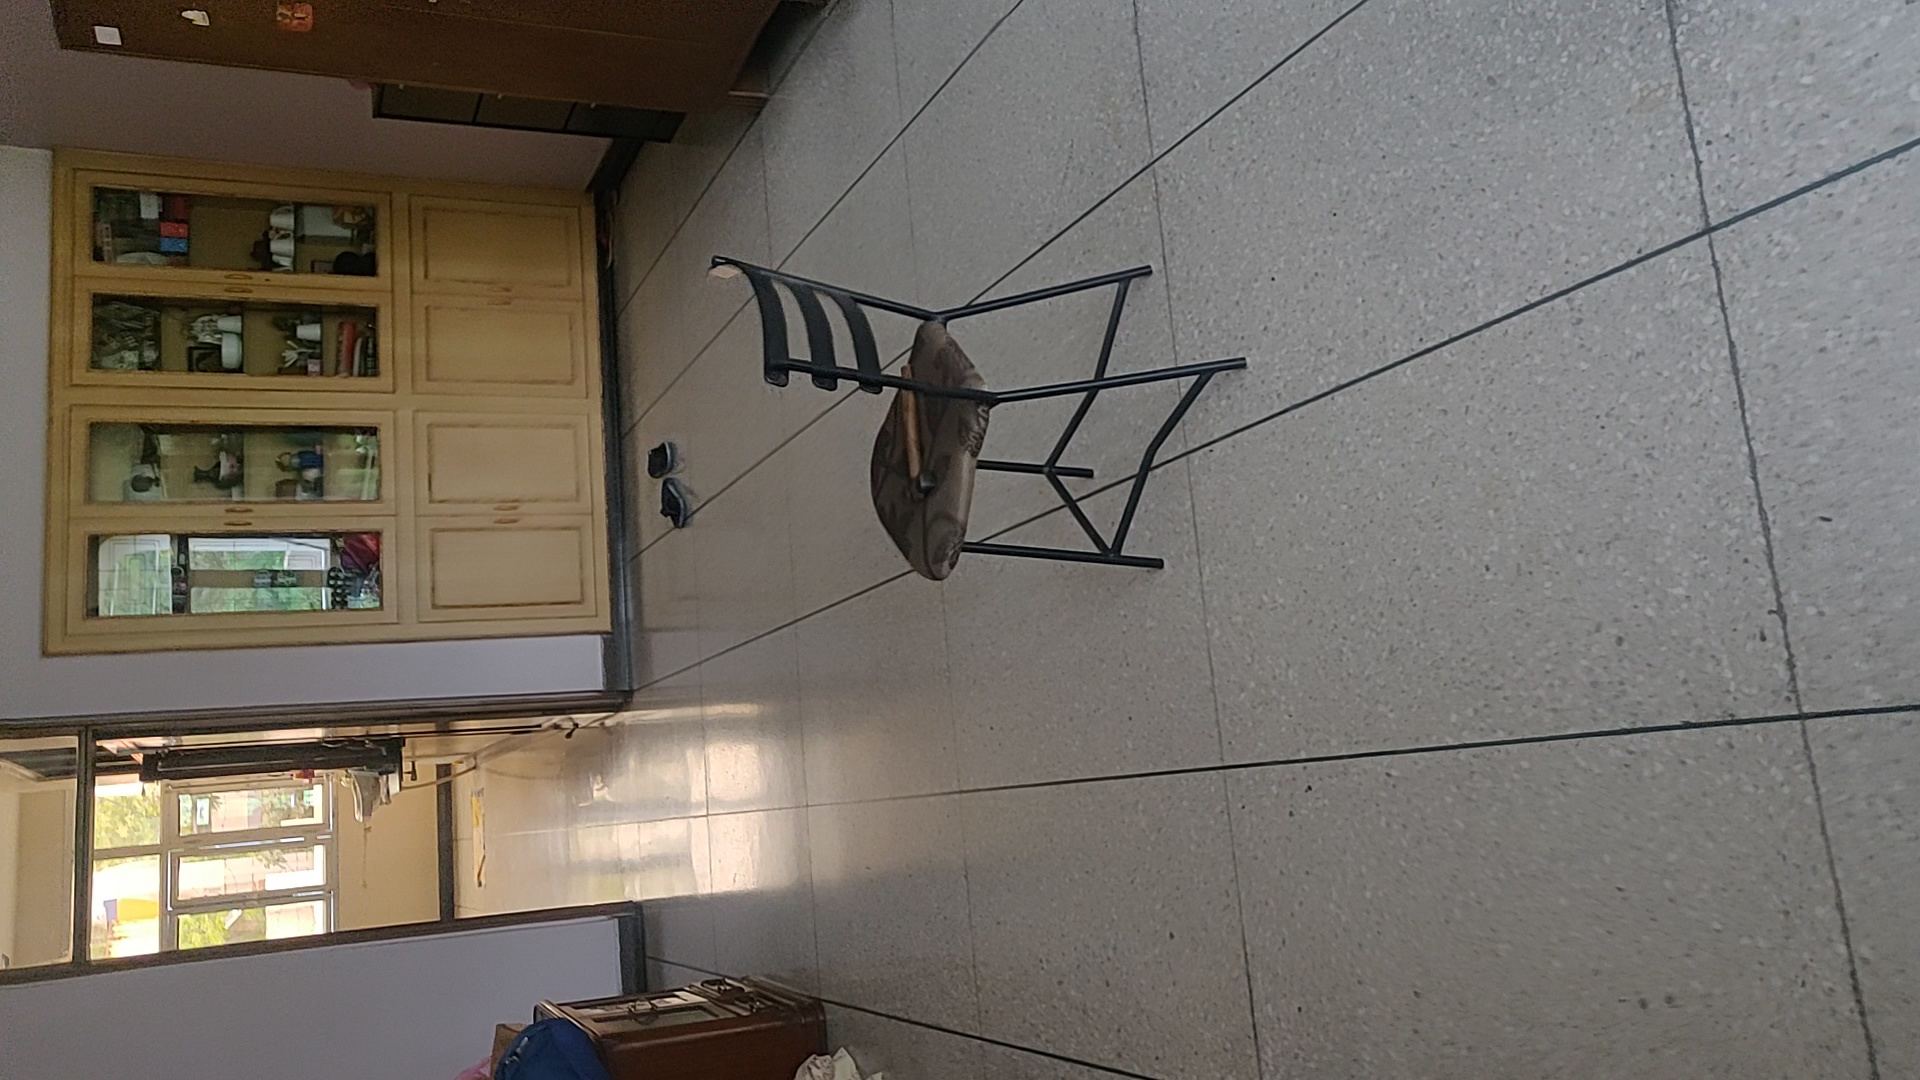hammer: (897, 363, 942, 505)
